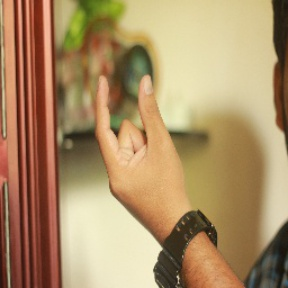U: (88, 66, 185, 205)
